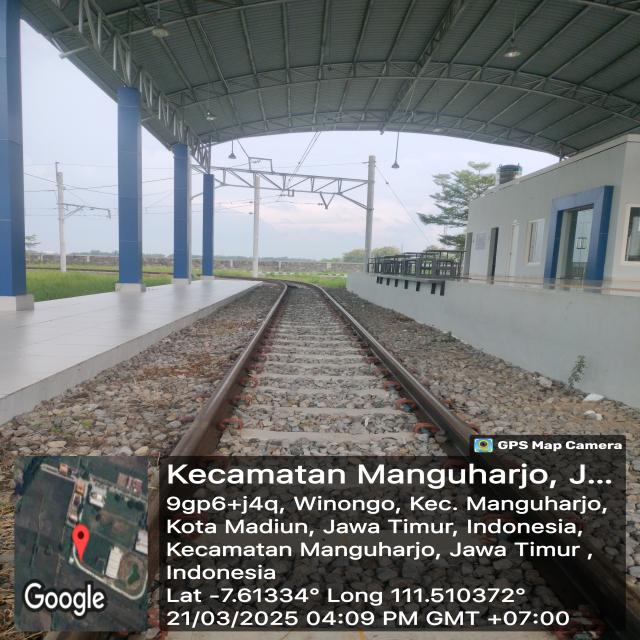rail-detection: (300, 283, 475, 456), (171, 280, 290, 456)
